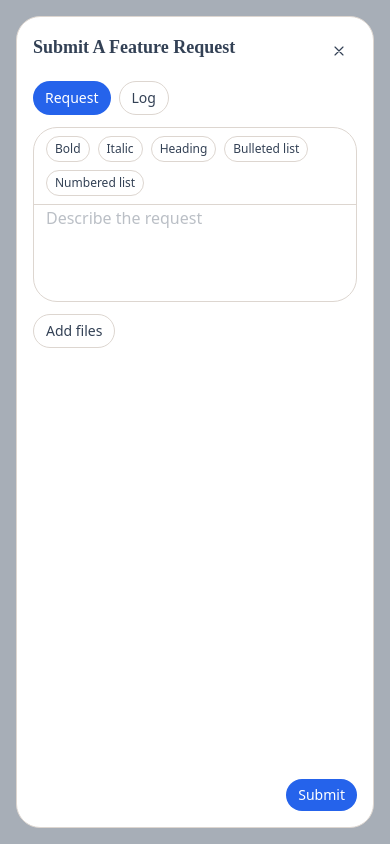
it: FeatureRequestModal › adds a log row for the account that can manage it
The image size is (390, 844).
Click the tab "Log" at (144, 98), box 118,81 -> 169,115
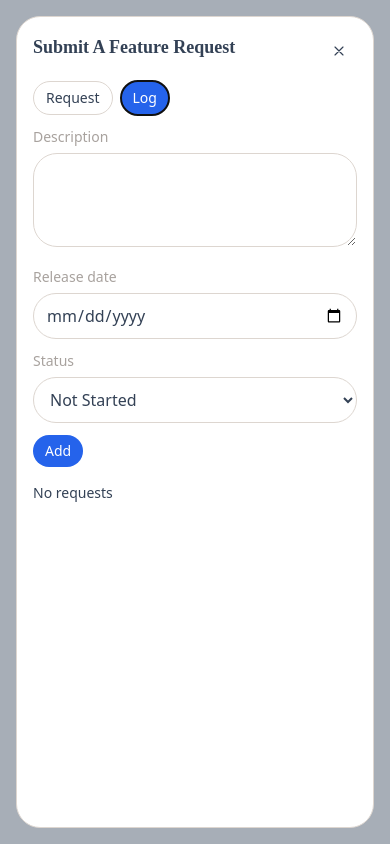
Check: the text "No requests" is shown, box 33,483 -> 113,502
Type "Offline maps" into the text box labelled "Description" at (195, 200), box 33,153 -> 357,247
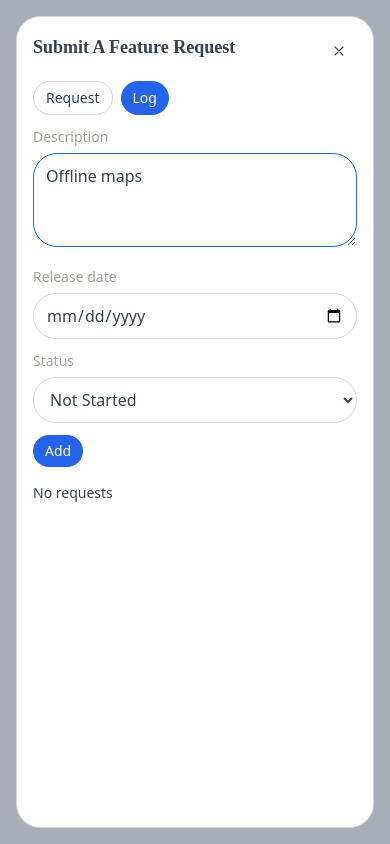
Type "2026-12-01" into the date field labelled "Release date" at (195, 316), box 33,293 -> 357,339
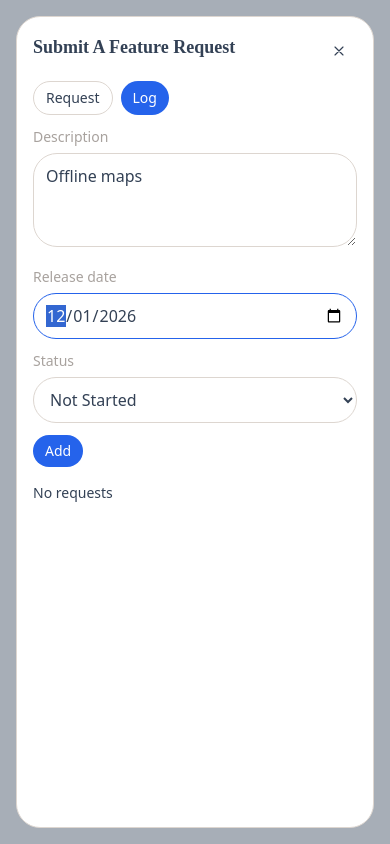
Select "Not Started" in the dropdown labelled "Status" at (195, 400), box 33,377 -> 357,423
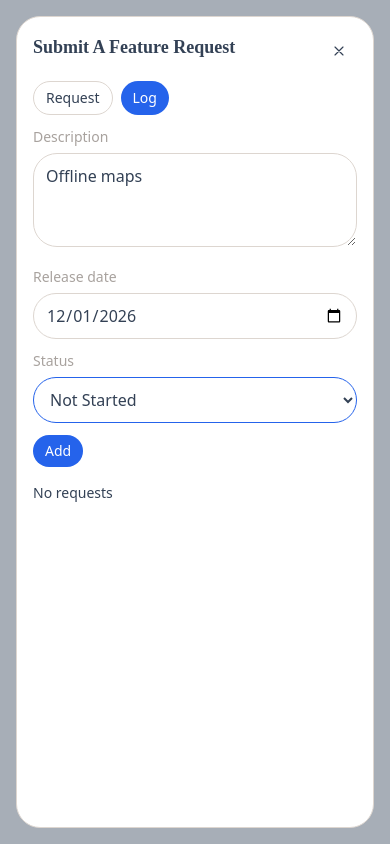
Click the button "Add" at (58, 451), box 33,435 -> 83,467
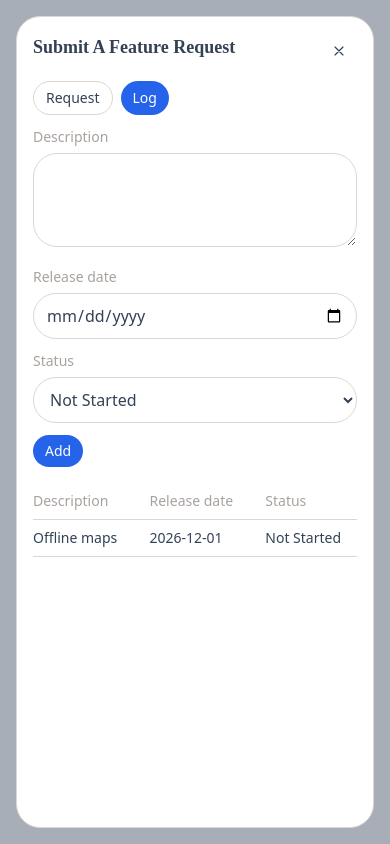
Check: the text "Offline maps" shows "2026-12-01", box 150,528 -> 223,547
Check: the text "Offline maps" shows "Not Started", box 265,528 -> 341,547
